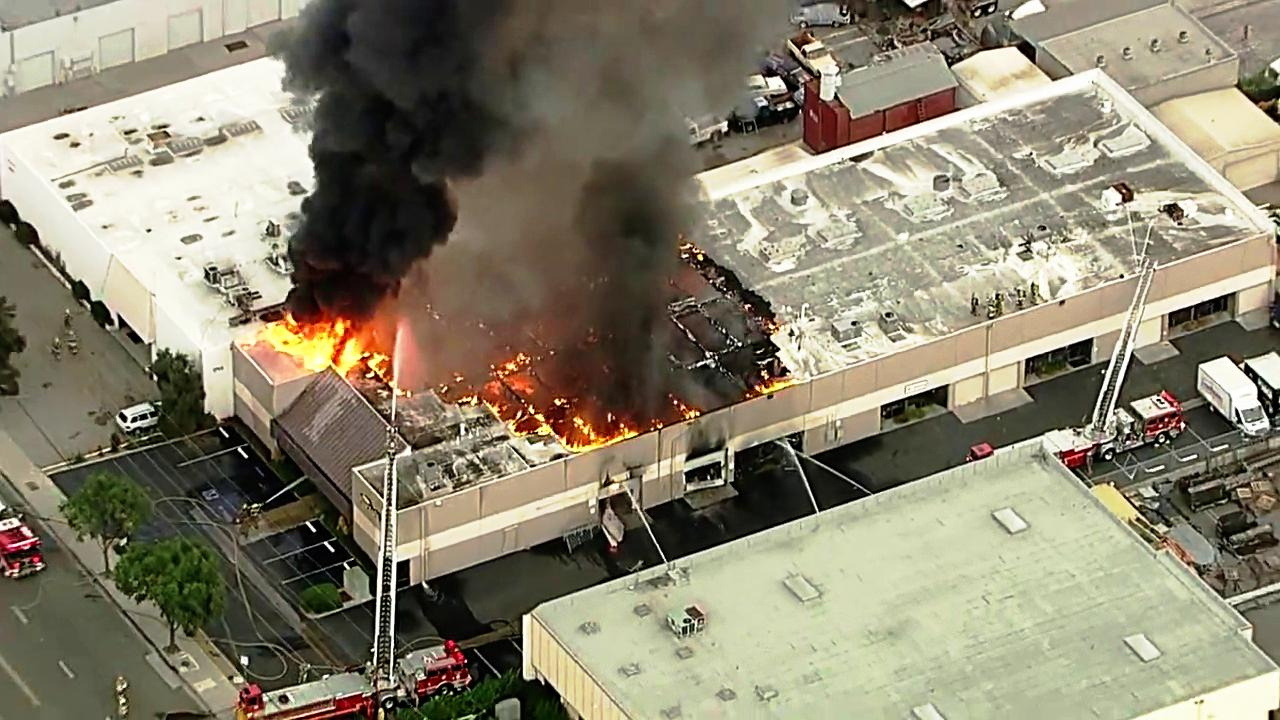fire: (259, 312, 390, 380)
smoke: (490, 5, 669, 369), (282, 0, 445, 295)
